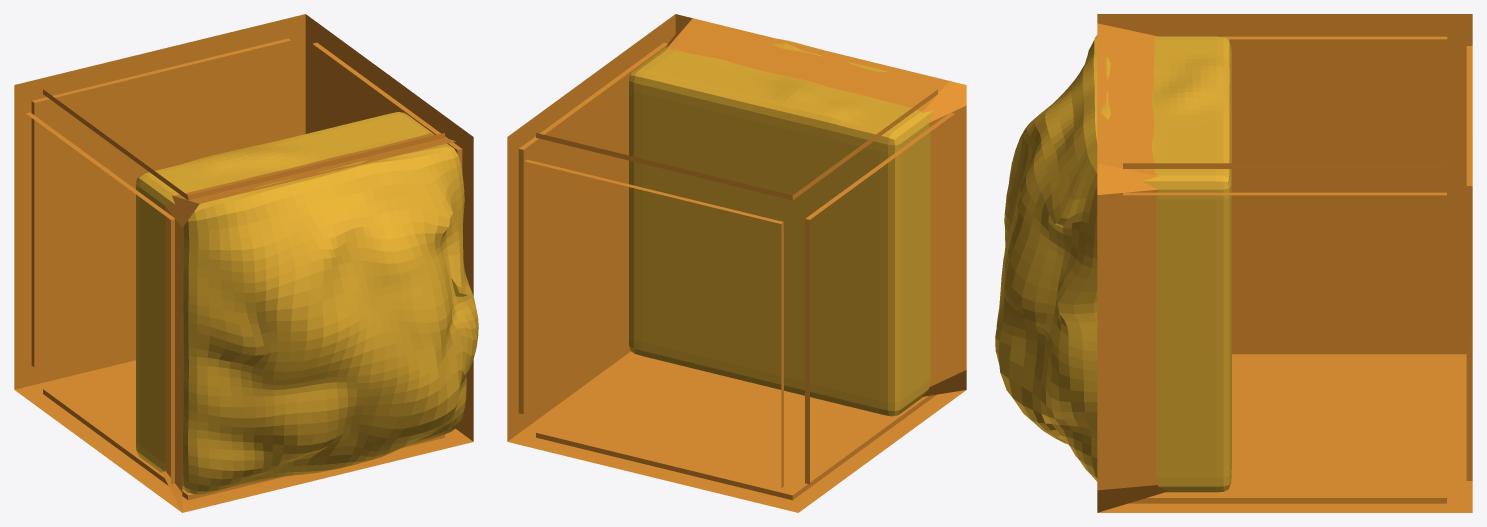
The model's file is sand.gltf.
The picture shows the model from 3 angles, left to right: view 1: azimuth 30°, elevation 25°; view 2: azimuth 150°, elevation 25°; view 3: azimuth 270°, elevation 25°; orthographic projection. The views are drawn at different scales.
Parts seen in each view (by area): view 1: Cube, Crate; view 2: Crate, Cube; view 3: Crate, Cube.
Part boxes in pixels (x1,y1,x2,y2): Cube: (136, 112, 478, 494); Crate: (14, 14, 473, 512); Crate: (507, 14, 966, 512); Cube: (629, 38, 934, 416); Crate: (1097, 14, 1472, 512); Cube: (995, 35, 1231, 492).
Bounding box in the file's own units: 0.3001 × 0.3 × 0.3817.
